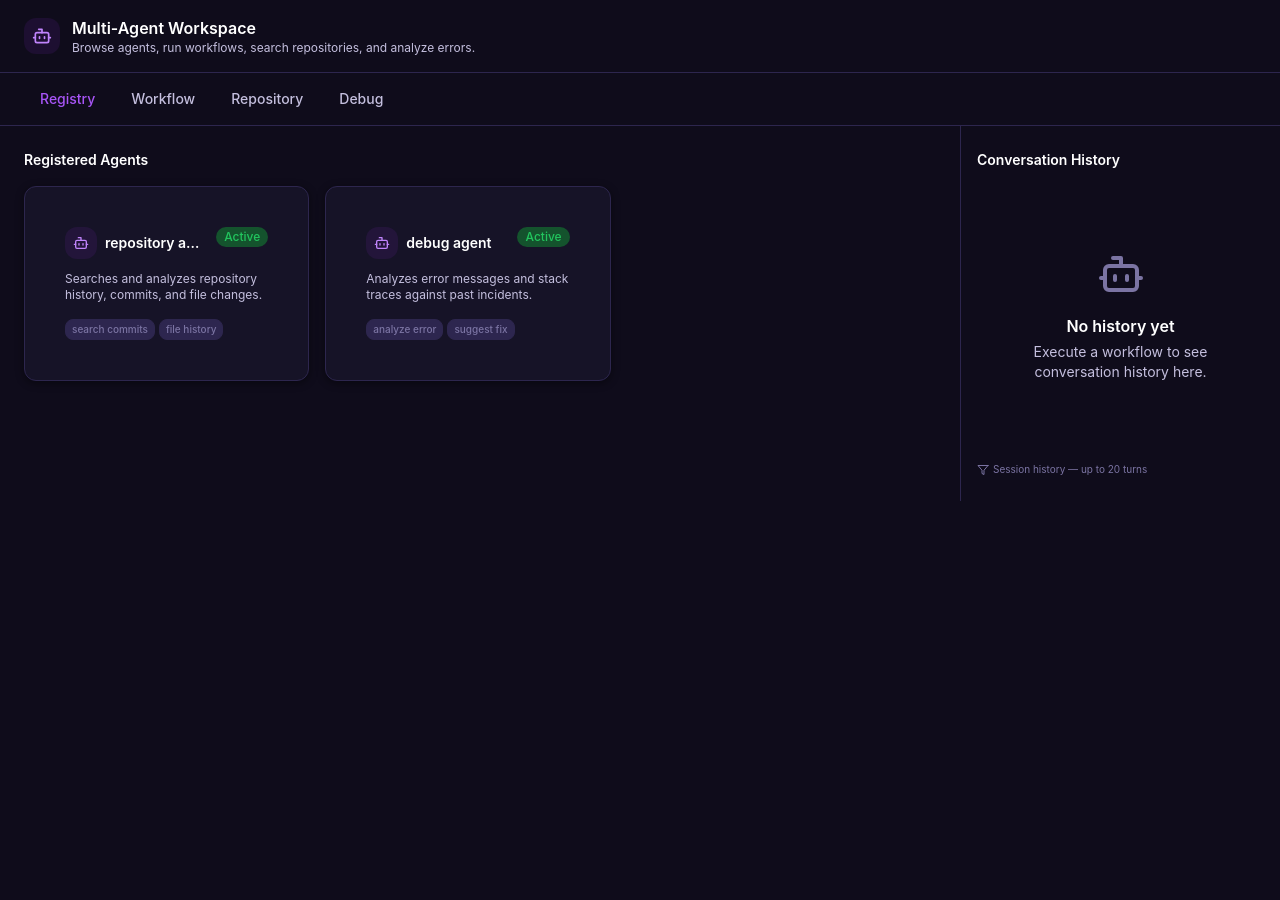
Test: AgentsPage › switches to repository tab on click
This screenshot has width=1280, height=900.
Click the tab "Repository" at (267, 99), box [215,81,319,117]
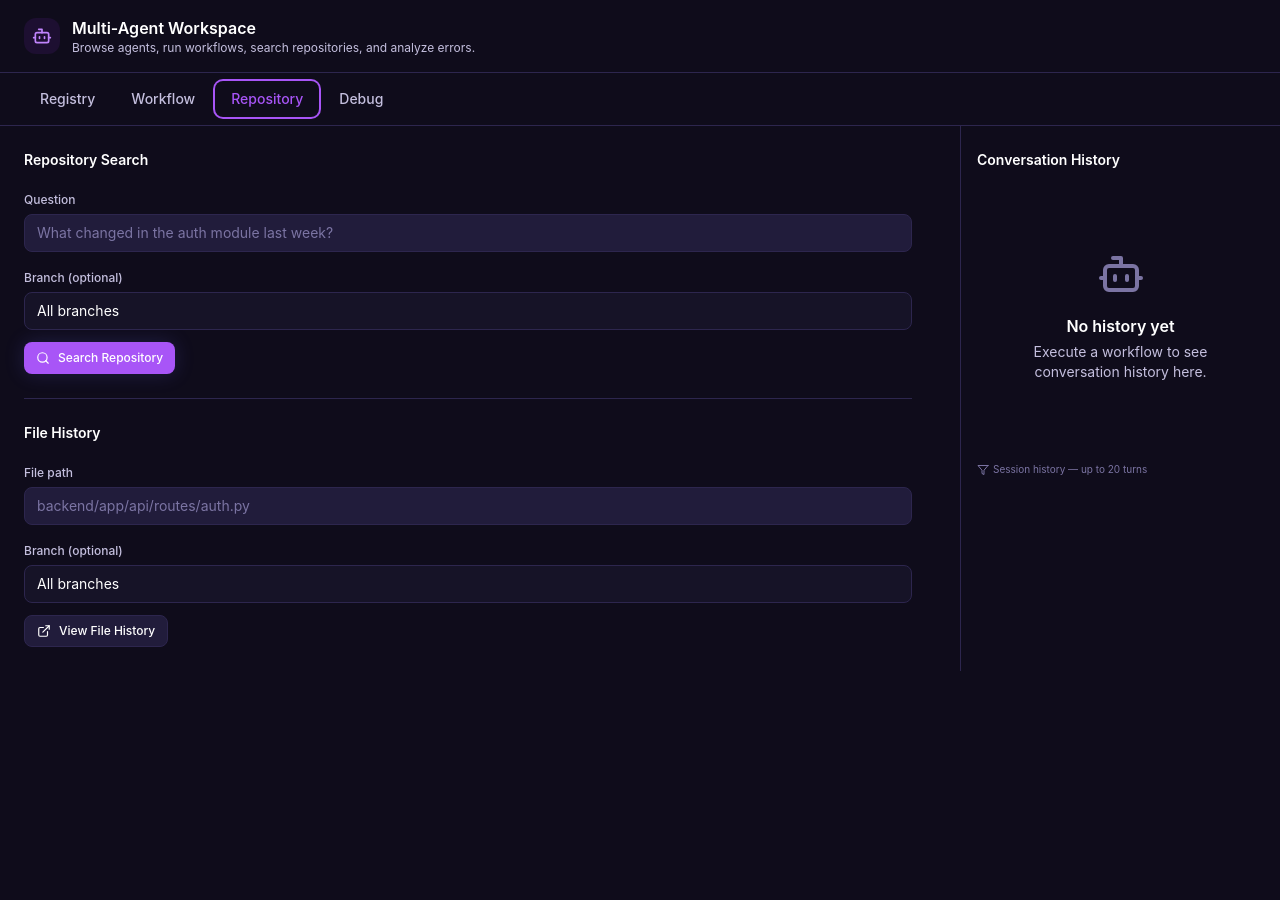
Expected: the element with test id "repository-agent-panel" is shown, [24,150,912,647]
